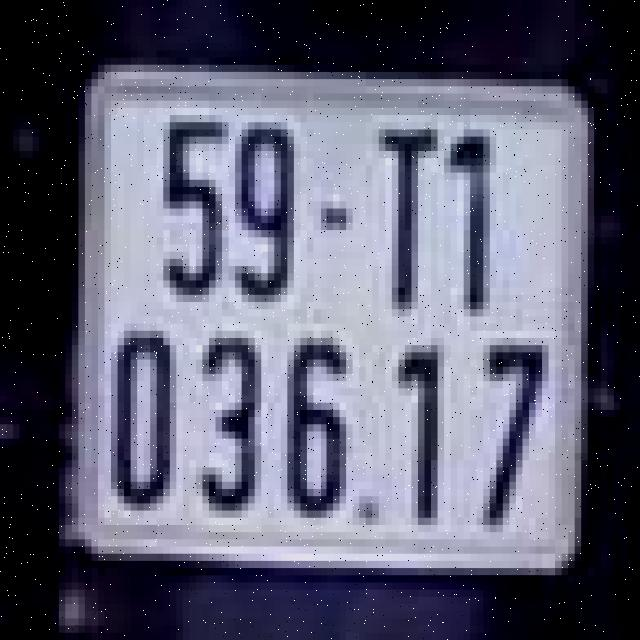0: (98, 313, 183, 536)
1: (388, 327, 461, 550), (448, 111, 500, 320)
3: (189, 324, 268, 525)
5: (140, 97, 226, 306)
6: (278, 331, 362, 546)
7: (464, 316, 562, 546)
9: (232, 104, 310, 306)
T: (362, 111, 448, 320)
